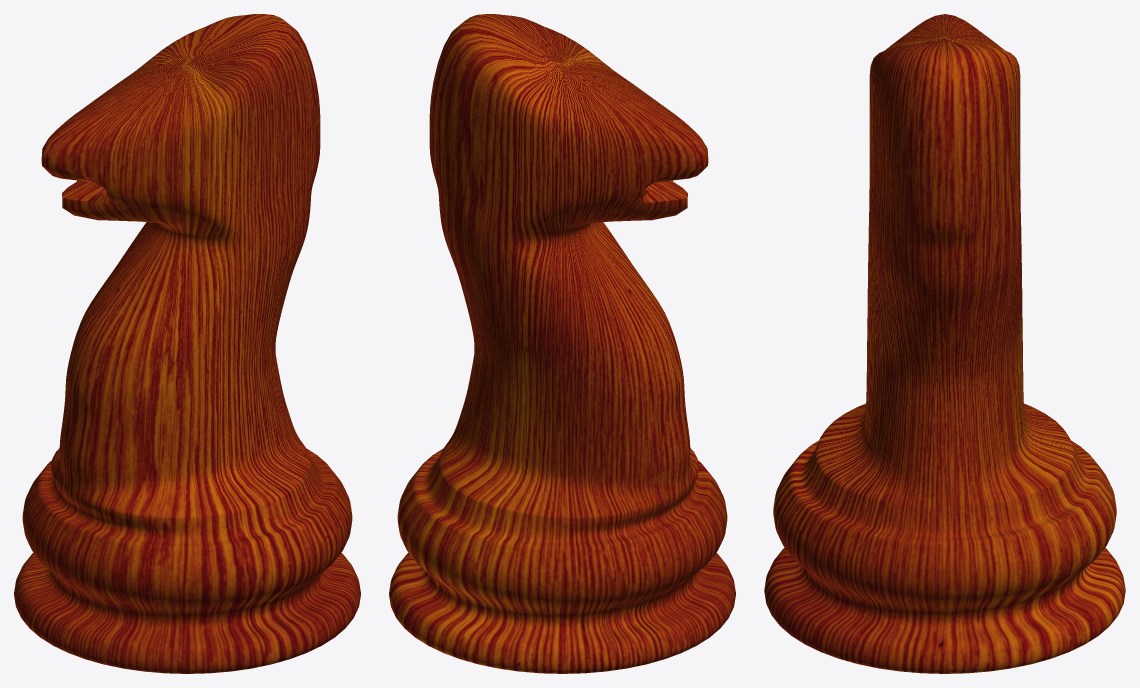
File: knight.gltf
3 views of the same model, side by side, from view 1: azimuth 30°, elevation 25°; view 2: azimuth 150°, elevation 25°; view 3: azimuth 270°, elevation 25° (orthographic). The views are drawn at different scales.
Visible parts, largest first — view 1: mesh01; view 2: mesh01; view 3: mesh01.
Boxes of the visible parts, box(x1,y1,x2,y2) form: mesh01: box(14, 14, 360, 673); mesh01: box(389, 14, 735, 673); mesh01: box(764, 14, 1125, 673).
Size of the model in its own units: 11.28 by 20.35 by 11.28.
Materials: 1 (1 with a texture image).
